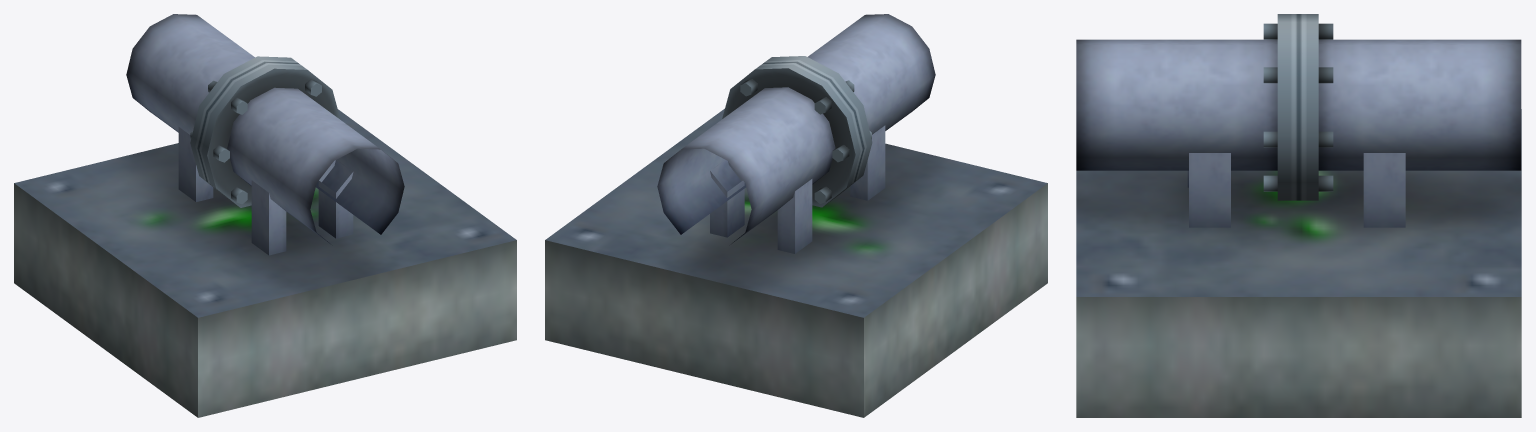
Rendered from ss_tile_pipejoin_leak_ns.obj.
The picture shows the model from 3 angles, left to right: view 1: azimuth 30°, elevation 25°; view 2: azimuth 150°, elevation 25°; view 3: azimuth 270°, elevation 25°; orthographic projection. The views are drawn at different scales.
Parts seen in each view (by area): view 1: tile_boundary05; view 2: tile_boundary05; view 3: tile_boundary05.
Boxes of the visible parts, x1,y1,x2,y2 form: tile_boundary05: [14, 14, 516, 417]; tile_boundary05: [545, 14, 1047, 417]; tile_boundary05: [1076, 14, 1521, 417].
Bounding box in the file's own units: 1 × 0.7476 × 1.
